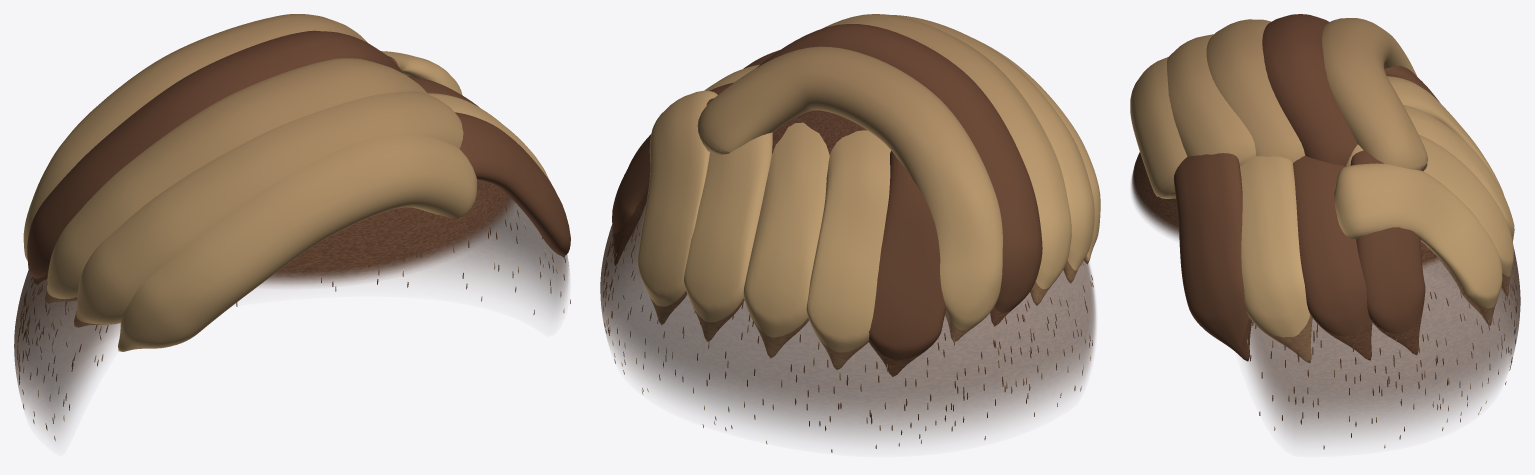
Rendered from Highlights-ba24261528fd251-hair.glb.
The picture shows the model from 3 angles, left to right: view 1: azimuth 30°, elevation 25°; view 2: azimuth 150°, elevation 25°; view 3: azimuth 270°, elevation 25°; orthographic projection. The views are drawn at different scales.
Visible parts, largest first — view 1: 226 hair / Hair / main251, 226 hair / Hair / clipped grain251, 226 hair / Hair / close cut strokes251; view 2: 226 hair / Hair / main251, 226 hair / Hair / clipped grain251, 226 hair / Hair / close cut strokes251; view 3: 226 hair / Hair / main251, 226 hair / Hair / clipped grain251, 226 hair / Hair / close cut strokes251.
Boxes of the visible parts, <box> form: 226 hair / Hair / main251: <box>23,14,570,351</box>; 226 hair / Hair / clipped grain251: <box>14,179,569,436</box>; 226 hair / Hair / close cut strokes251: <box>17,208,570,440</box>; 226 hair / Hair / main251: <box>612,14,1100,376</box>; 226 hair / Hair / clipped grain251: <box>600,110,1095,441</box>; 226 hair / Hair / close cut strokes251: <box>603,226,1093,452</box>; 226 hair / Hair / main251: <box>1130,14,1514,362</box>; 226 hair / Hair / clipped grain251: <box>1131,152,1520,441</box>; 226 hair / Hair / close cut strokes251: <box>1239,276,1516,449</box>.
Size of the model in its own units: 0.9812 by 0.6928 by 0.752.
4 materials, 1 textured.
